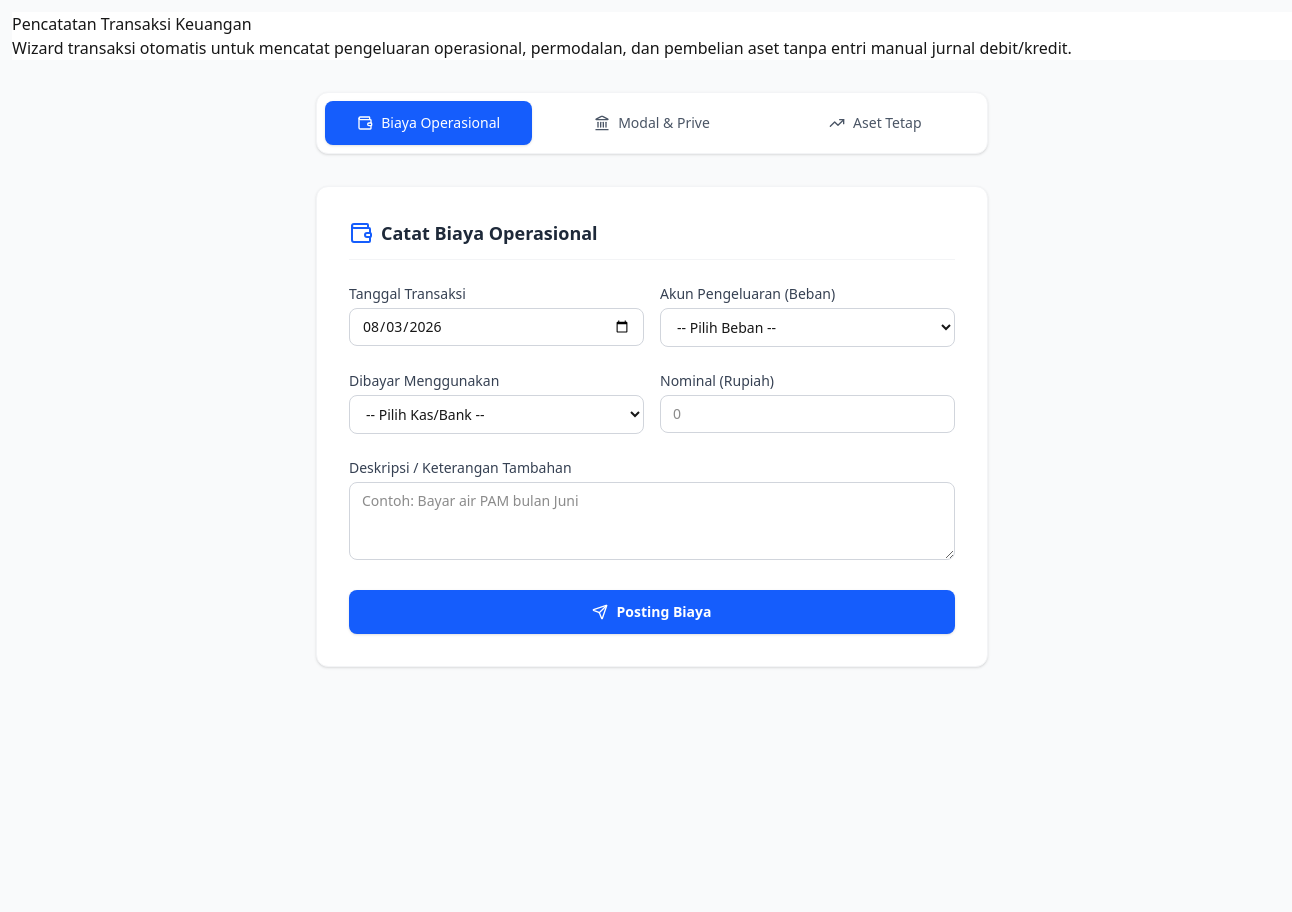
Scenario: financial-transactions module › switches between all tabs
expect the button "Posting Biaya" is shown: met, box [349,590,955,634]
Click the button "Modal & Prive".
click(652, 123)  # box [548,101,756,145]
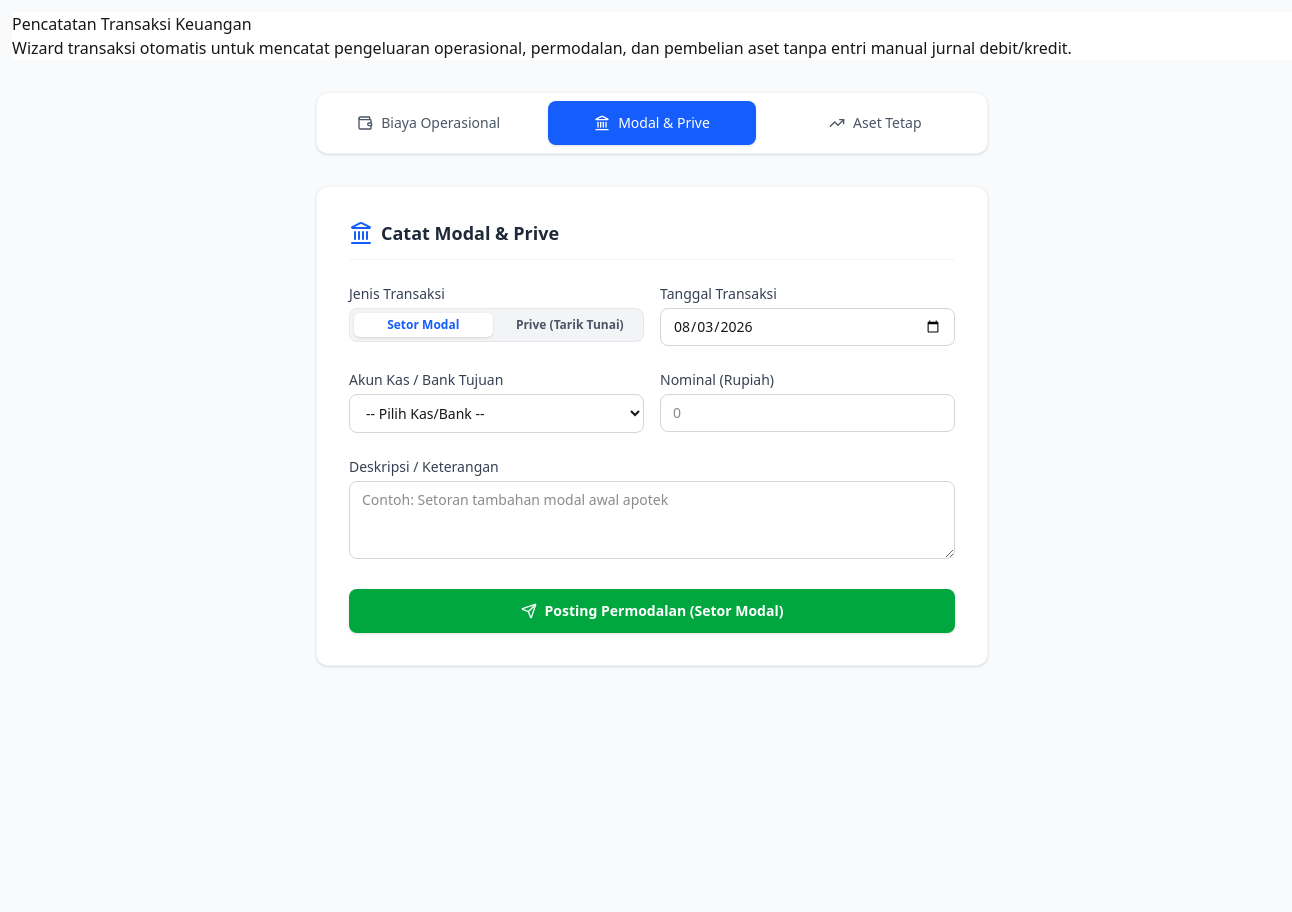
expect the heading "Catat Modal & Prive" is shown: met, box [349,219,955,260]
Click the button "Aset Tetap".
click(875, 123)  # box [772,101,979,145]
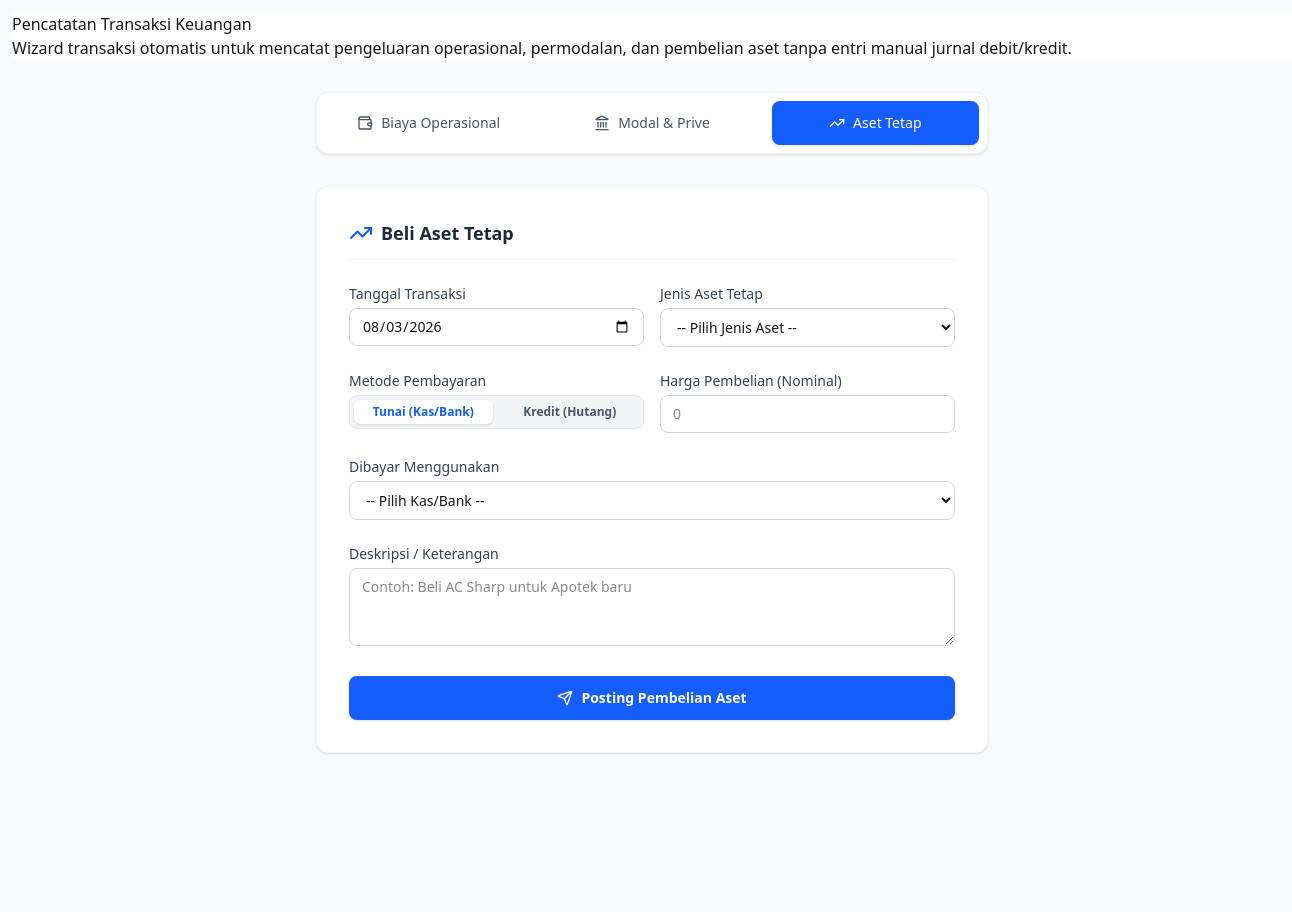
expect the heading "Beli Aset Tetap" is shown: met, box [349,219,955,260]
Click the button "Biaya Operasional".
click(429, 123)  # box [325,101,532,145]
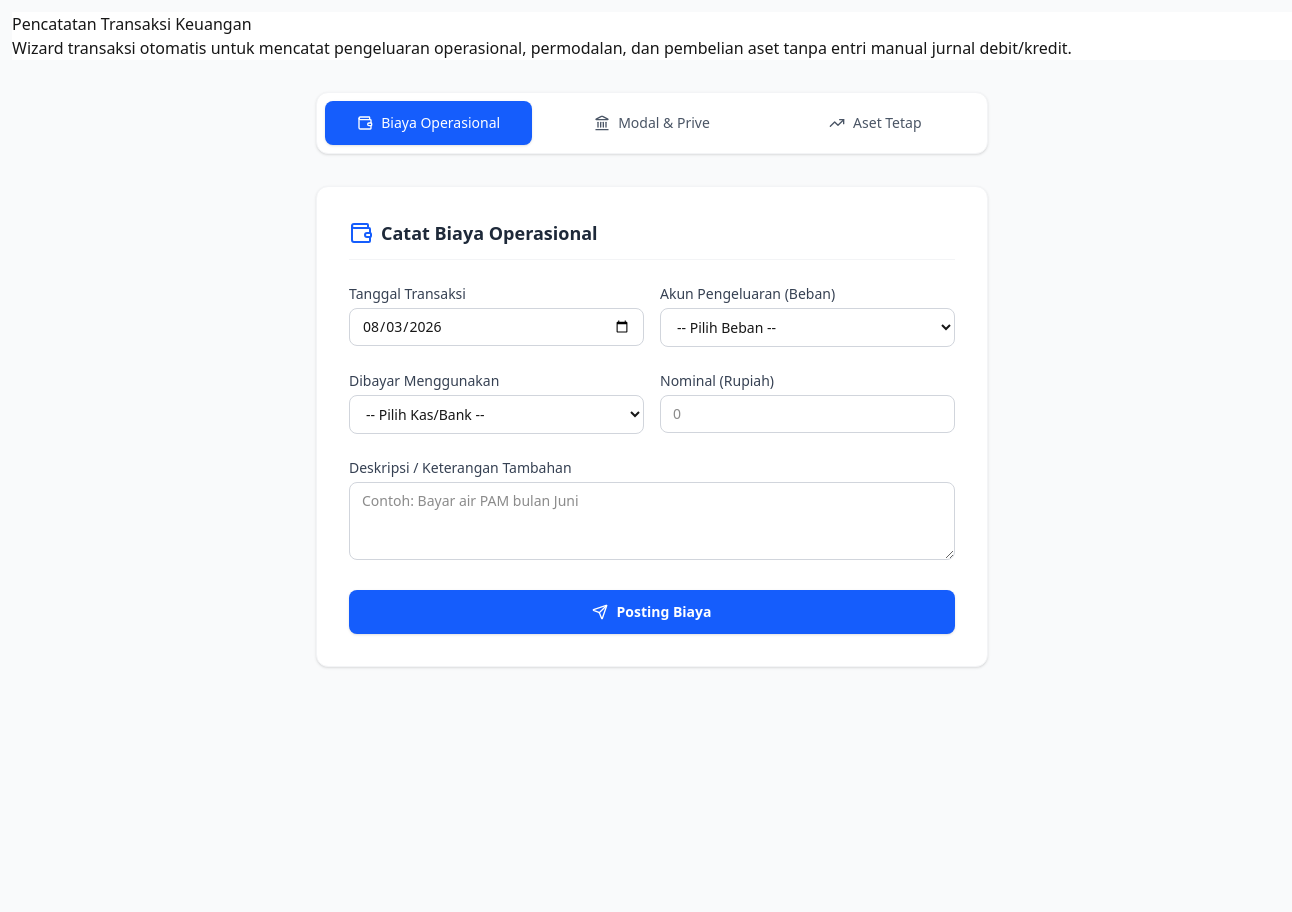
expect the heading "Catat Biaya Operasional" is shown: met, box [349,219,955,260]
